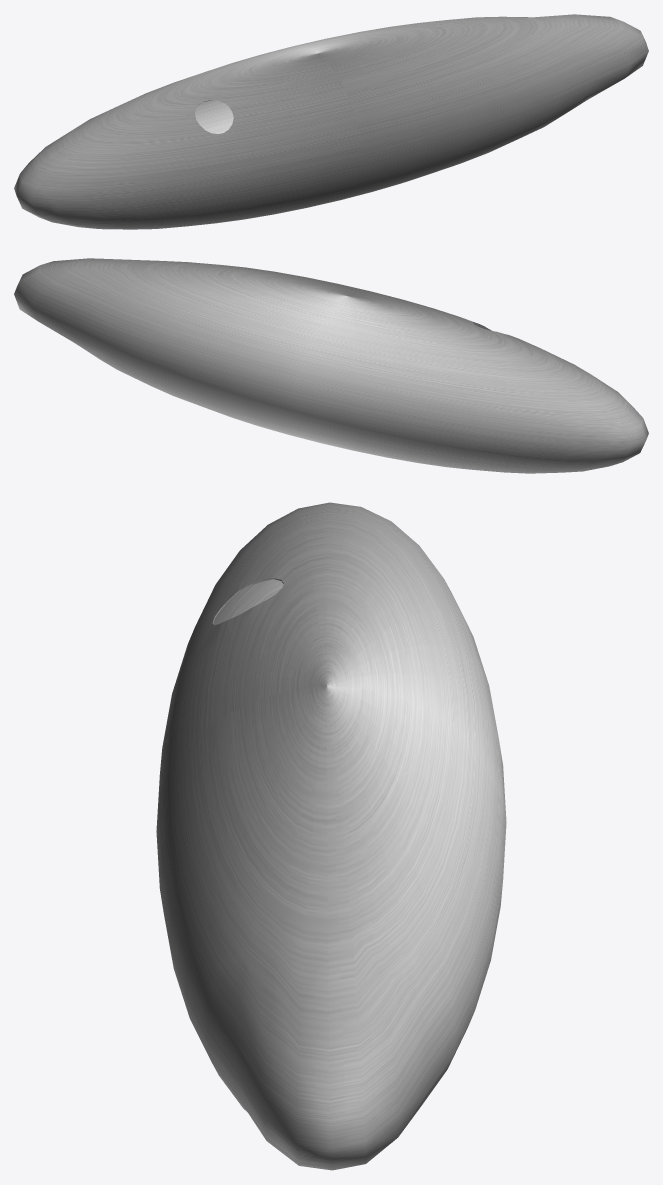
The model's file is _fueltank.FBX.
The picture shows the model from 3 angles, top to bottom: view 1: azimuth 30°, elevation 25°; view 2: azimuth 150°, elevation 25°; view 3: azimuth 270°, elevation 25°; orthographic projection. The views are drawn at different scales.
Visible parts, largest first — view 1: Sphere001; view 2: Sphere001; view 3: Sphere001.
Boxes of the visible parts, x1,y1,x2,y2 form: Sphere001: (14,14,648,229); Sphere001: (14,258,648,473); Sphere001: (156,502,506,1170).
Size of the model in its own units: 134 by 28.62 by 32.17.
